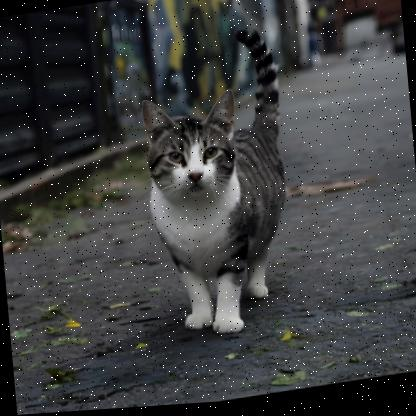cat: (139, 80, 287, 313)
